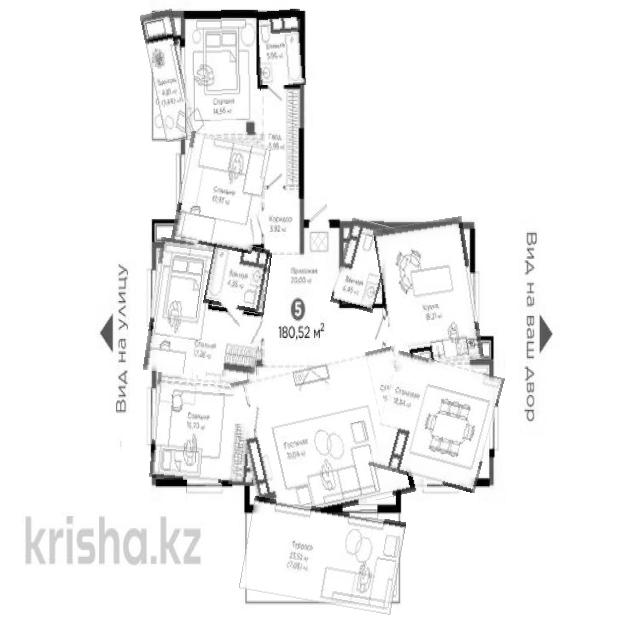balcony: (243, 502, 403, 609), (146, 9, 192, 142)
bathroom: (336, 219, 390, 311), (206, 242, 268, 312), (255, 10, 305, 90)
hallway: (262, 86, 384, 364)
kitchen: (378, 219, 479, 369)
living_room: (242, 353, 421, 526), (145, 237, 265, 384), (381, 351, 505, 493), (151, 374, 260, 484), (176, 134, 268, 252), (183, 10, 260, 140)
